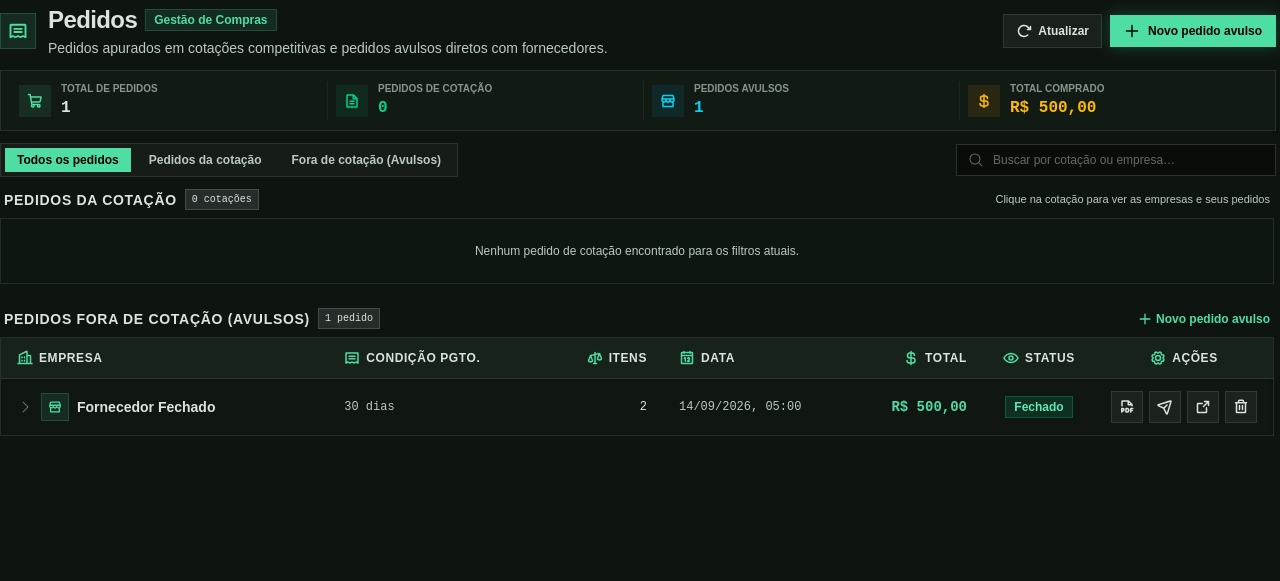
Scenario: pedido avulso fechado exibe ações de PDF, envio e visualização no acordeão
The image size is (1280, 581).
Expected: the button named "Baixar PDF" is shown, left=1111, top=391, right=1143, bottom=423
Expected: the button named "Reenviar e-mail" is shown, left=1149, top=391, right=1181, bottom=423
Note: Expande o menu sanfona do pedido avulso
Click the text "Fornecedor Fechado" at (146, 407), box left=77, top=397, right=216, bottom=417
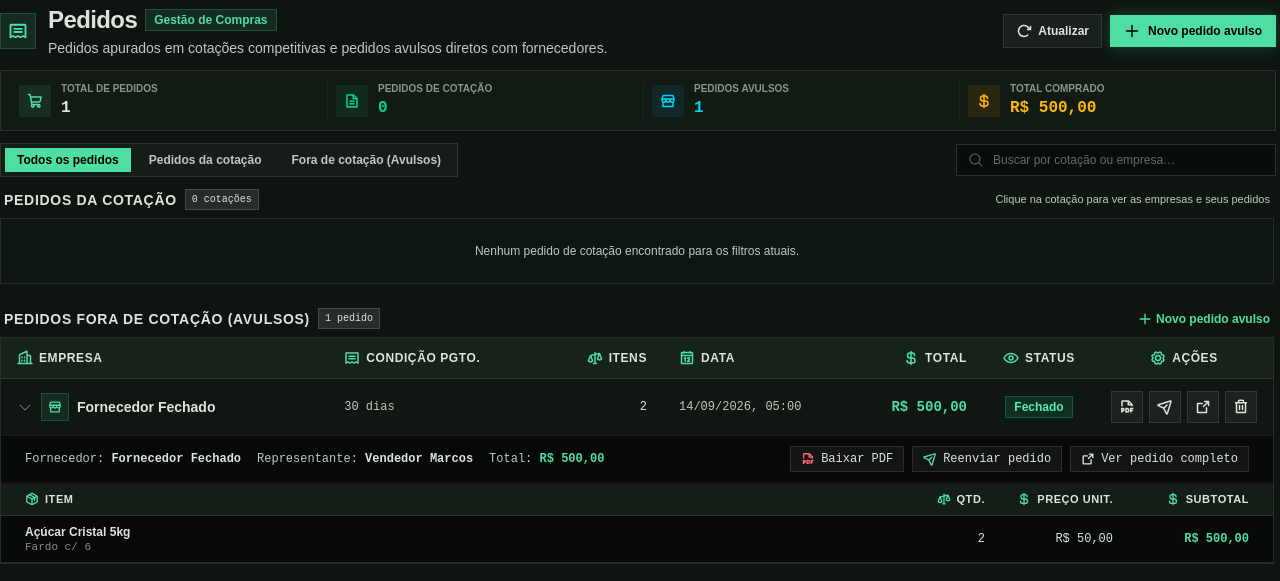
Now the text "Açúcar Cristal 5kg" is shown, box left=25, top=525, right=130, bottom=539
Now the text "Vendedor Marcos" is shown, box left=365, top=452, right=473, bottom=466
